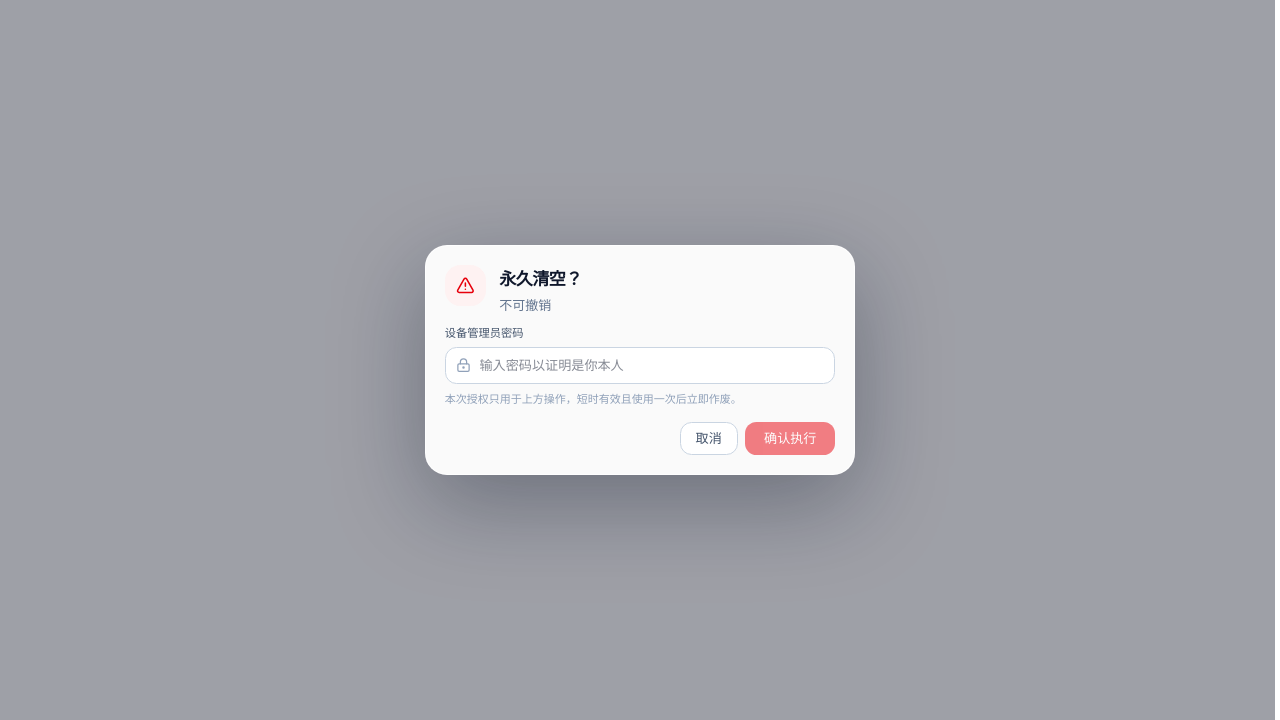
Test: high-risk approval dialog › keeps the dialog open and shows a backend rejection
Type "wrong" into the password field labelled "设备管理员密码".
click(640, 365); type("wrong")  # box top-left (445, 346), bottom-right (835, 384)
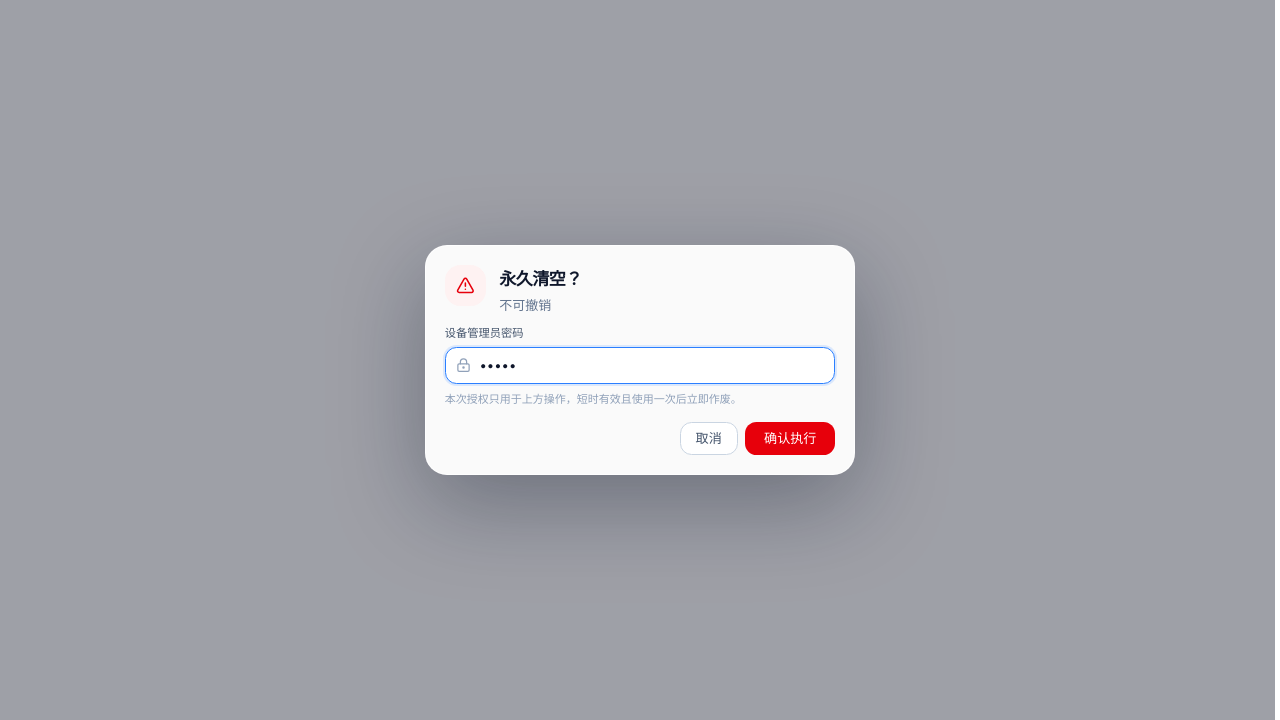
Click the button "确认执行".
click(790, 438)  # box top-left (745, 422), bottom-right (835, 455)
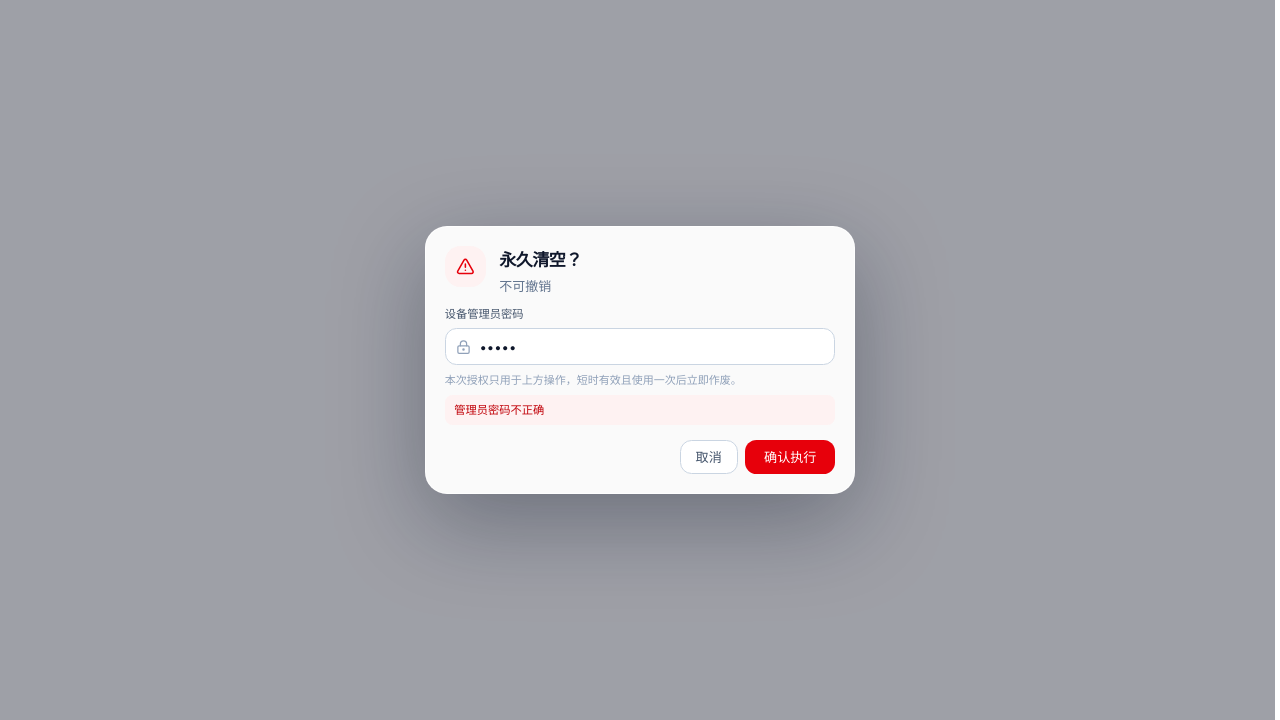
Expected: the dialog is shown, top-left (425, 226), bottom-right (855, 494)
Expected: the message reads "管理员密码不正确", top-left (454, 403), bottom-right (544, 417)
